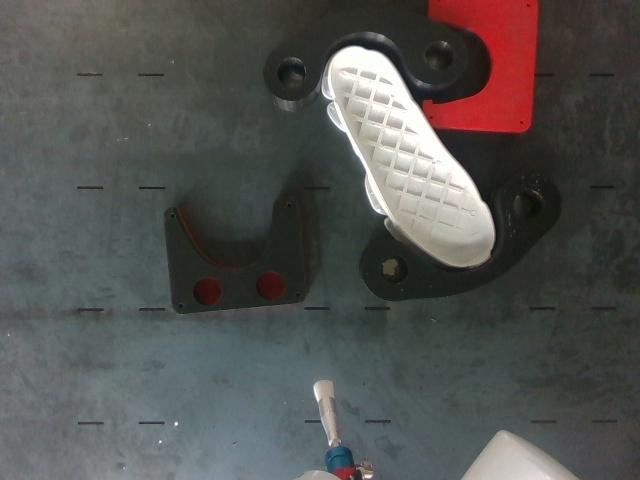shoes: (329, 46, 493, 267)
